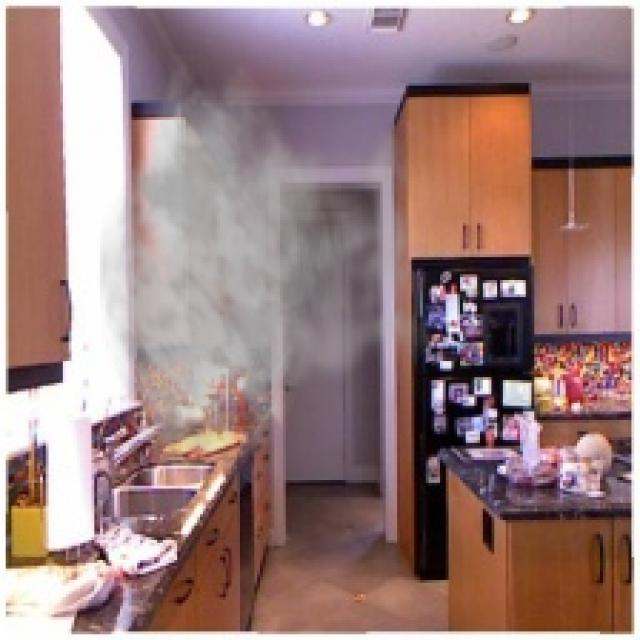smoke: (97, 54, 440, 480)
